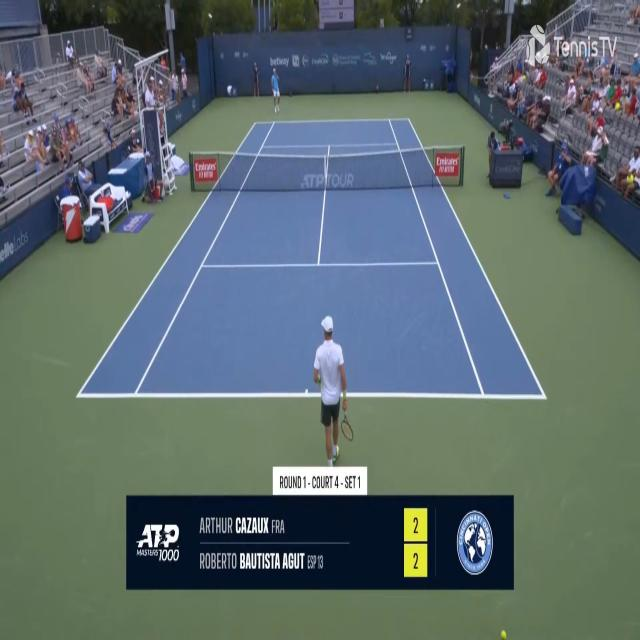tennis-player: (308, 312, 356, 463), (270, 66, 282, 114)
